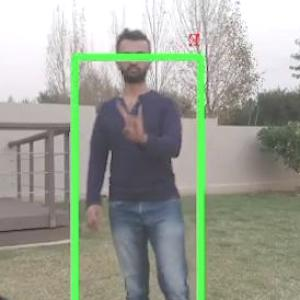takeoff-hand: (118, 94, 150, 141)
